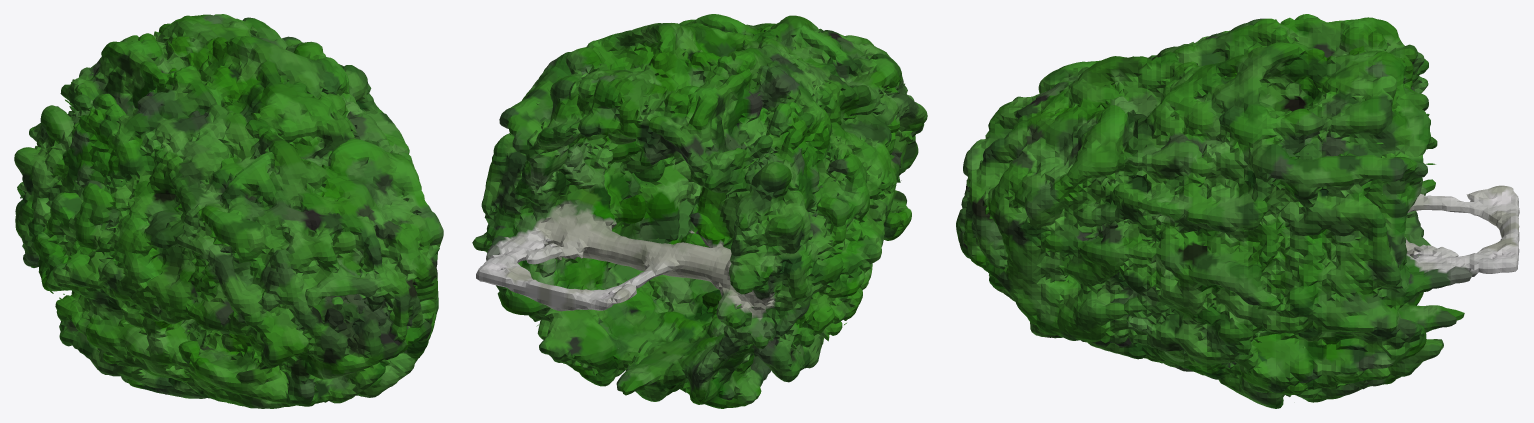
Rendered from bush.glb.
3 renders of one model, left to right at view 1: azimuth 30°, elevation 25°; view 2: azimuth 150°, elevation 25°; view 3: azimuth 270°, elevation 25°, orthographic. The views are drawn at different scales.
Visible parts, largest first — view 1: world; view 2: world; view 3: world.
Boxes of the visible parts, <box> form: world: <box>14,14,443,408</box>; world: <box>472,14,927,408</box>; world: <box>956,14,1519,408</box>.
Bounding box in the file's own units: 0.7249 × 0.6862 × 0.9828.
